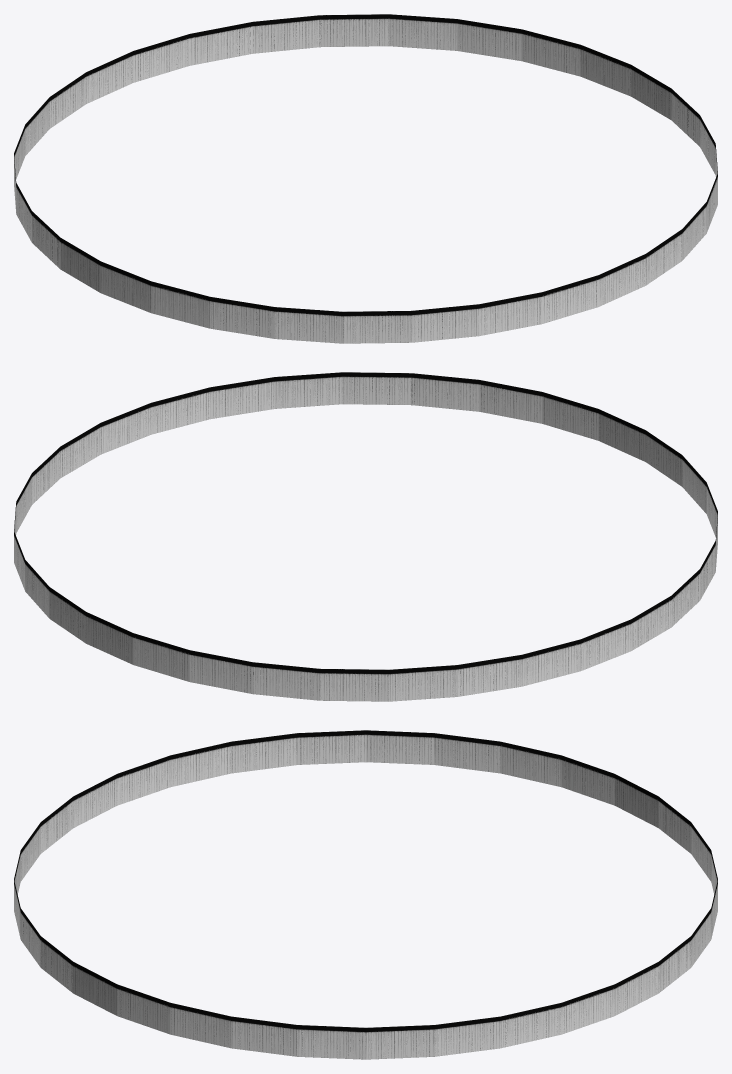
Rendered from RecruitCylinder.obj.
The picture shows the model from 3 angles, top to bottom: view 1: azimuth 30°, elevation 25°; view 2: azimuth 150°, elevation 25°; view 3: azimuth 270°, elevation 25°; orthographic projection.
Visible parts, largest first — view 1: RecruitCylinder; view 2: RecruitCylinder; view 3: RecruitCylinder.
Boxes of the visible parts, box(x1,y1,x2,y2) form: RecruitCylinder: box(14, 14, 717, 343); RecruitCylinder: box(14, 372, 717, 701); RecruitCylinder: box(14, 730, 717, 1059).
Bounding box in the file's own units: 23.2 × 1.16 × 23.2.
